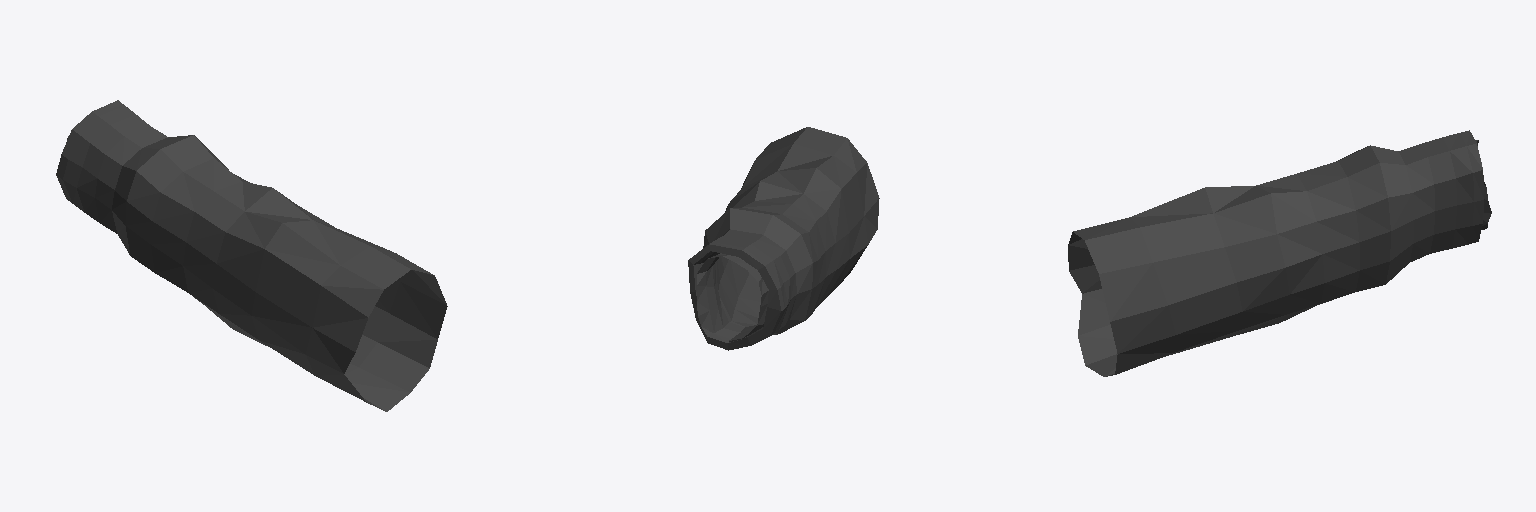
Rendered from l_forearm.obj.
3 renders of one model, left to right at view 1: azimuth 30°, elevation 25°; view 2: azimuth 150°, elevation 25°; view 3: azimuth 270°, elevation 25°, orthographic.
Parts seen in each view (by area): view 1: zoey_color_bmp_005.001_zoey_color_bmp.004; view 2: zoey_color_bmp_005.001_zoey_color_bmp.004; view 3: zoey_color_bmp_005.001_zoey_color_bmp.004.
Part boxes in pixels (x1,y1,x2,y2): zoey_color_bmp_005.001_zoey_color_bmp.004: (56, 100, 447, 411); zoey_color_bmp_005.001_zoey_color_bmp.004: (688, 127, 879, 350); zoey_color_bmp_005.001_zoey_color_bmp.004: (1068, 130, 1491, 376).
Bounding box in the file's own units: 0.1195 × 0.1 × 0.2057.